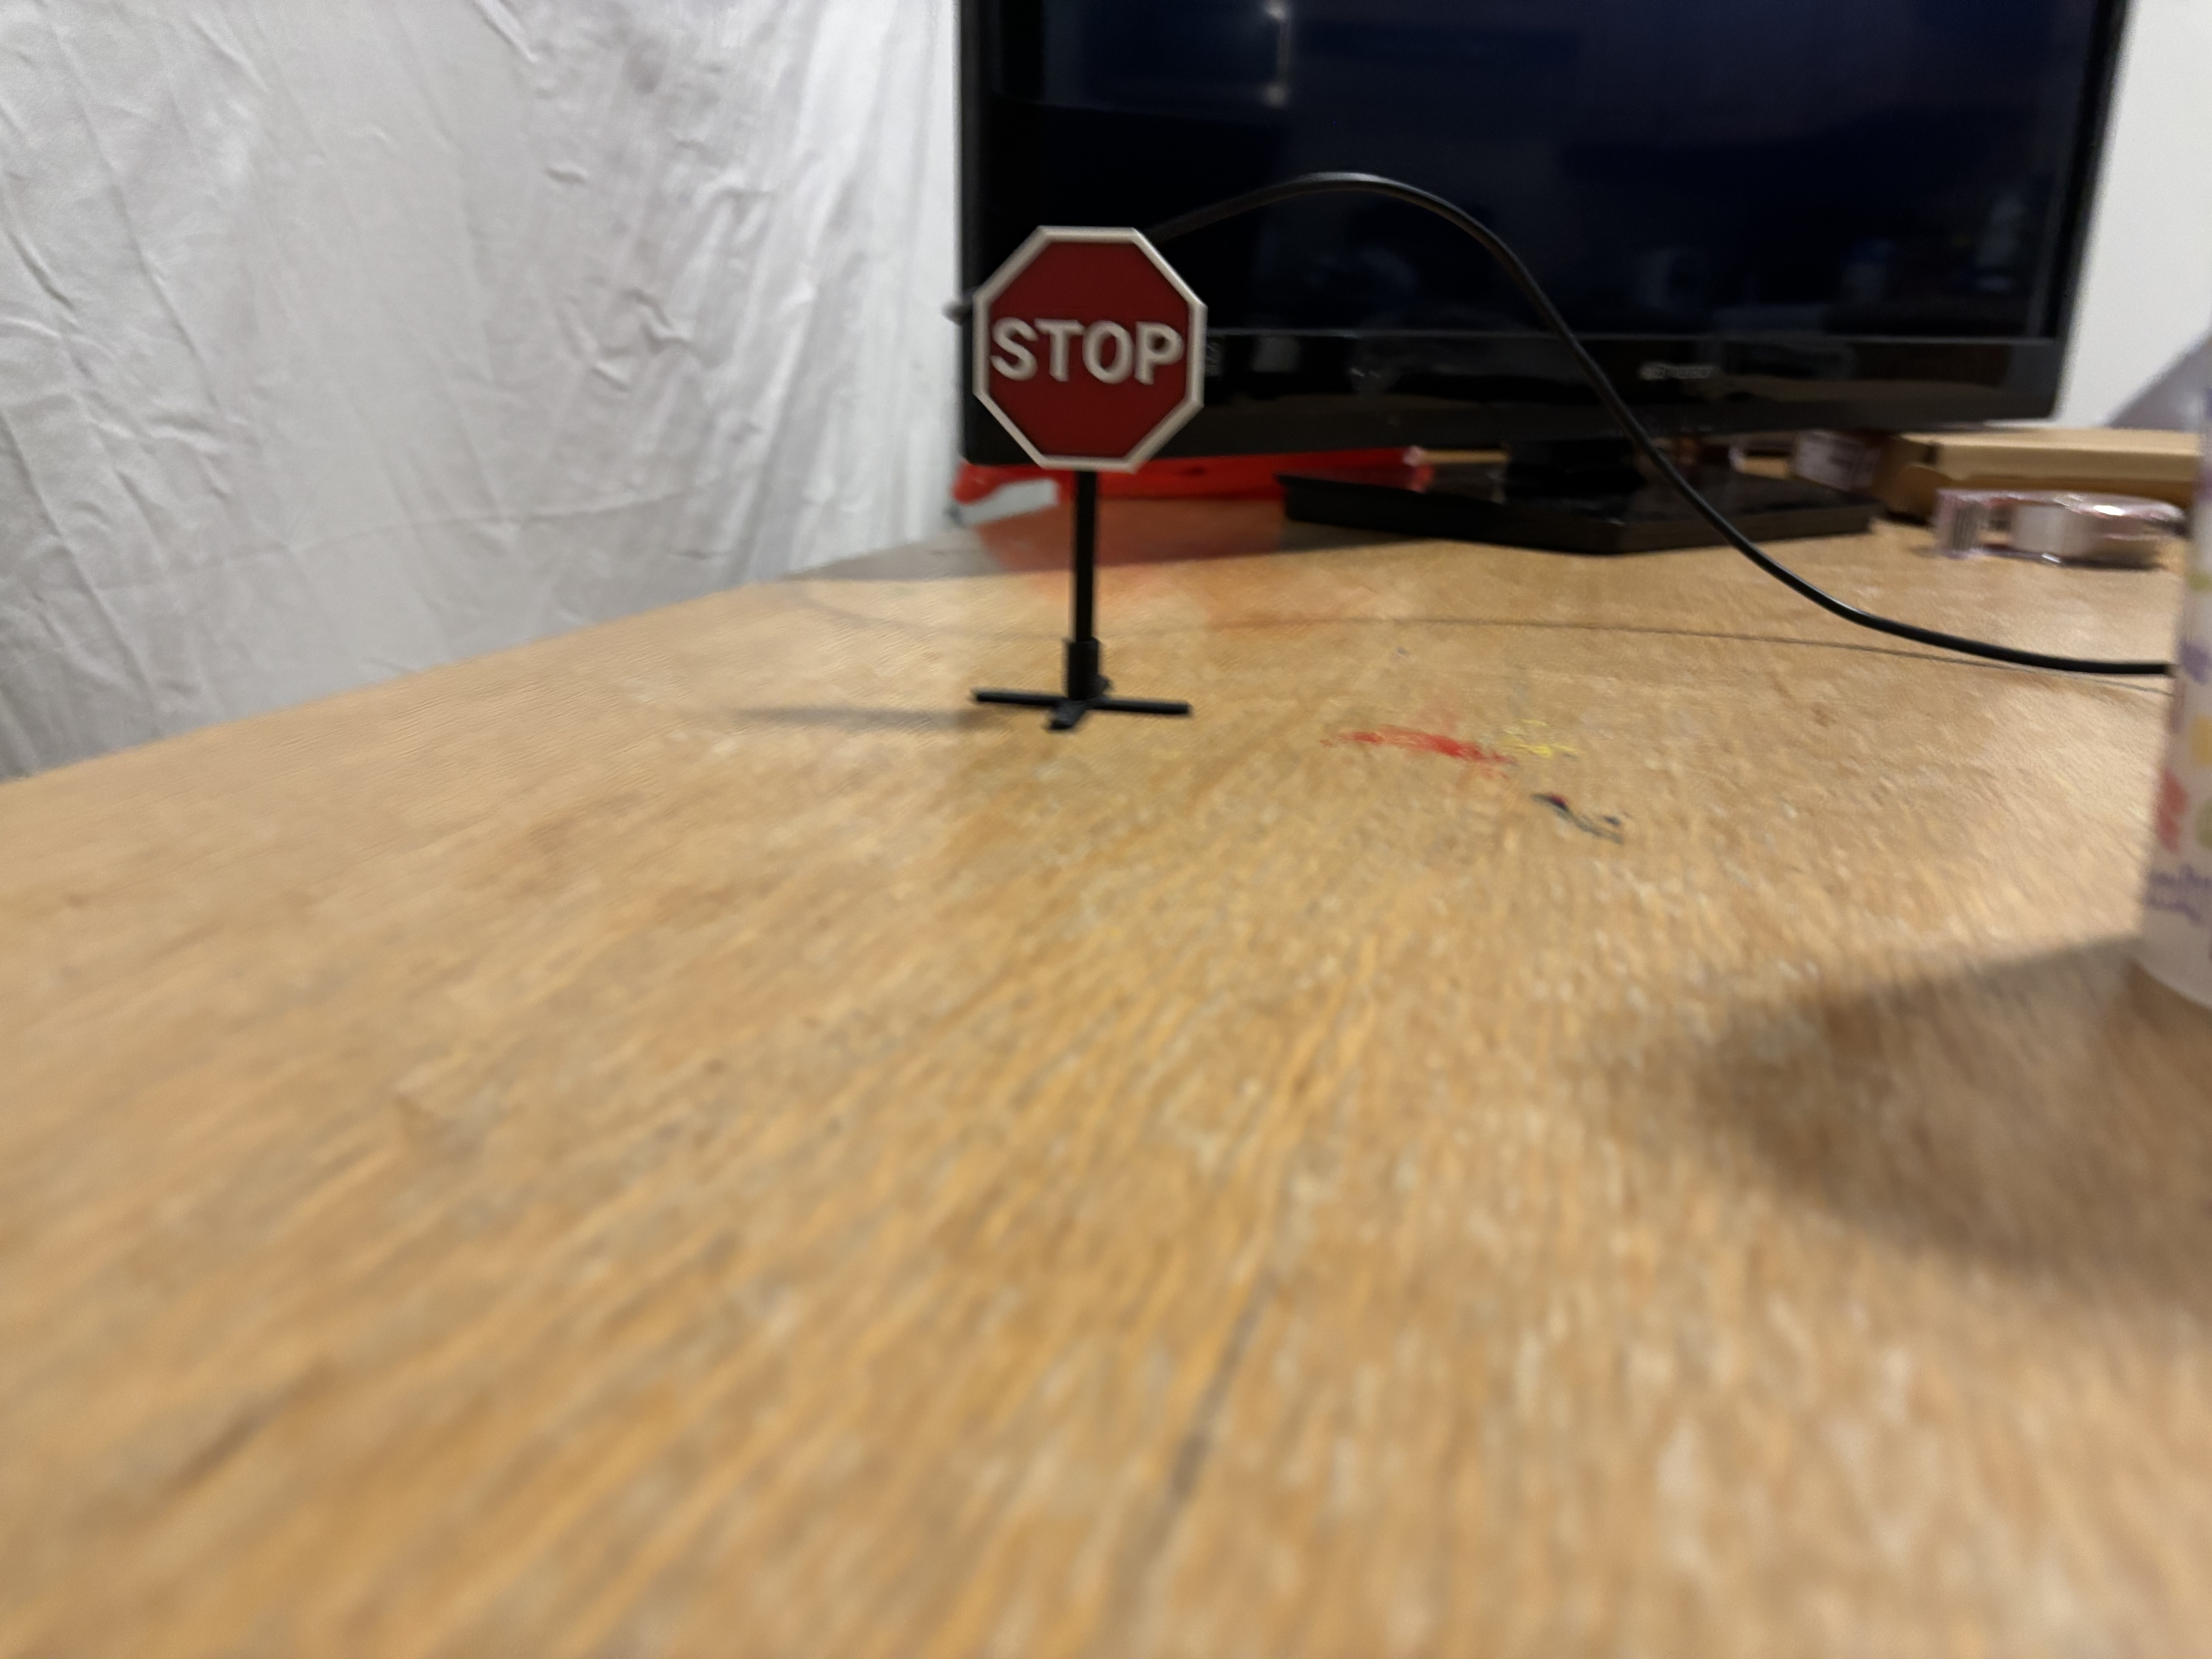sign_stop: (960, 221, 1223, 479)
